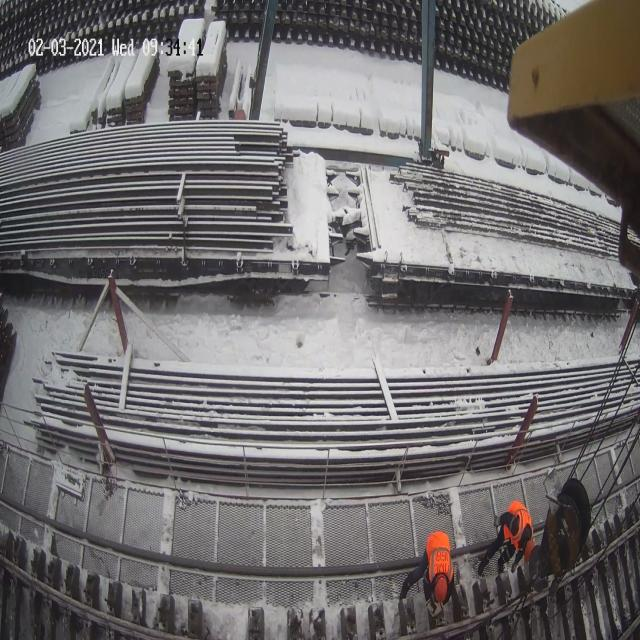Helmet: (428, 568, 452, 602)
Person: (398, 530, 462, 624), (477, 499, 535, 578)
